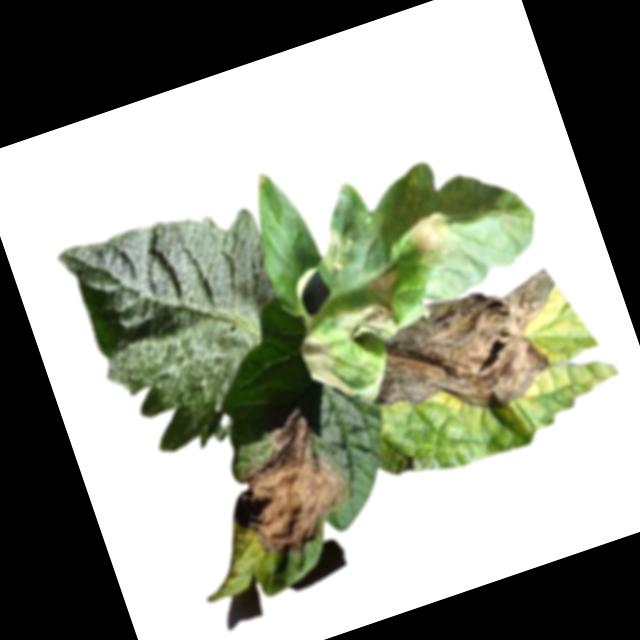Late_blight: (350, 262, 590, 447), (205, 399, 370, 576), (295, 322, 354, 407), (332, 289, 403, 348), (403, 205, 464, 268), (311, 228, 358, 277), (364, 261, 405, 302)
healthy: (55, 186, 318, 470)
